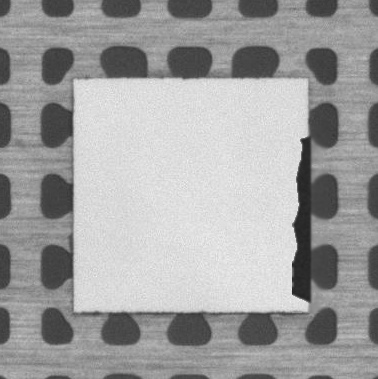DIE_BROKEN: (290, 131, 313, 309)
